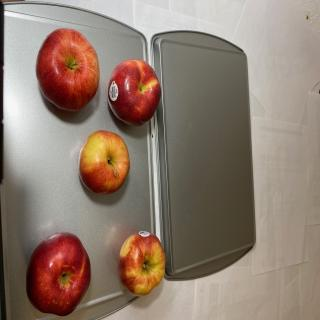Apple: (35, 28, 100, 112), (26, 232, 91, 316), (108, 58, 162, 127), (78, 130, 130, 194), (118, 230, 166, 296)
